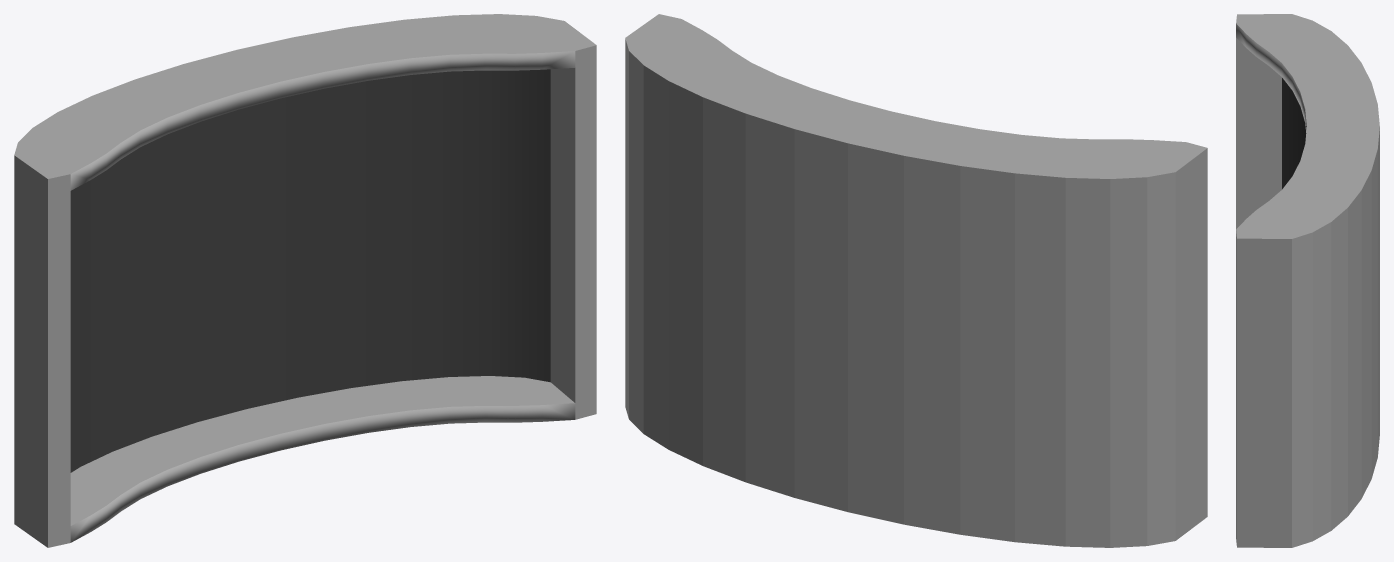
Rendered from -Main Monitor-.fbx.
3 views of the same model, side by side, from view 1: azimuth 30°, elevation 25°; view 2: azimuth 150°, elevation 25°; view 3: azimuth 270°, elevation 25° (orthographic). The views are drawn at different scales.
Visible parts, largest first — view 1: Main_Monitor.Screen, Main_Monitor.Edge; view 2: Main_Monitor.Edge; view 3: Main_Monitor.Edge, Main_Monitor.Screen.
Part boxes in pixels (left/top/right/bottom): Main_Monitor.Screen: left=70, top=69, right=550, bottom=472; Main_Monitor.Edge: left=14, top=14, right=596, bottom=547; Main_Monitor.Edge: left=625, top=14, right=1207, bottom=547; Main_Monitor.Edge: left=1236, top=14, right=1379, bottom=547; Main_Monitor.Screen: left=1282, top=78, right=1306, bottom=189.
Bounding box in the file's own units: 4.24 × 2.72 × 1.15.
